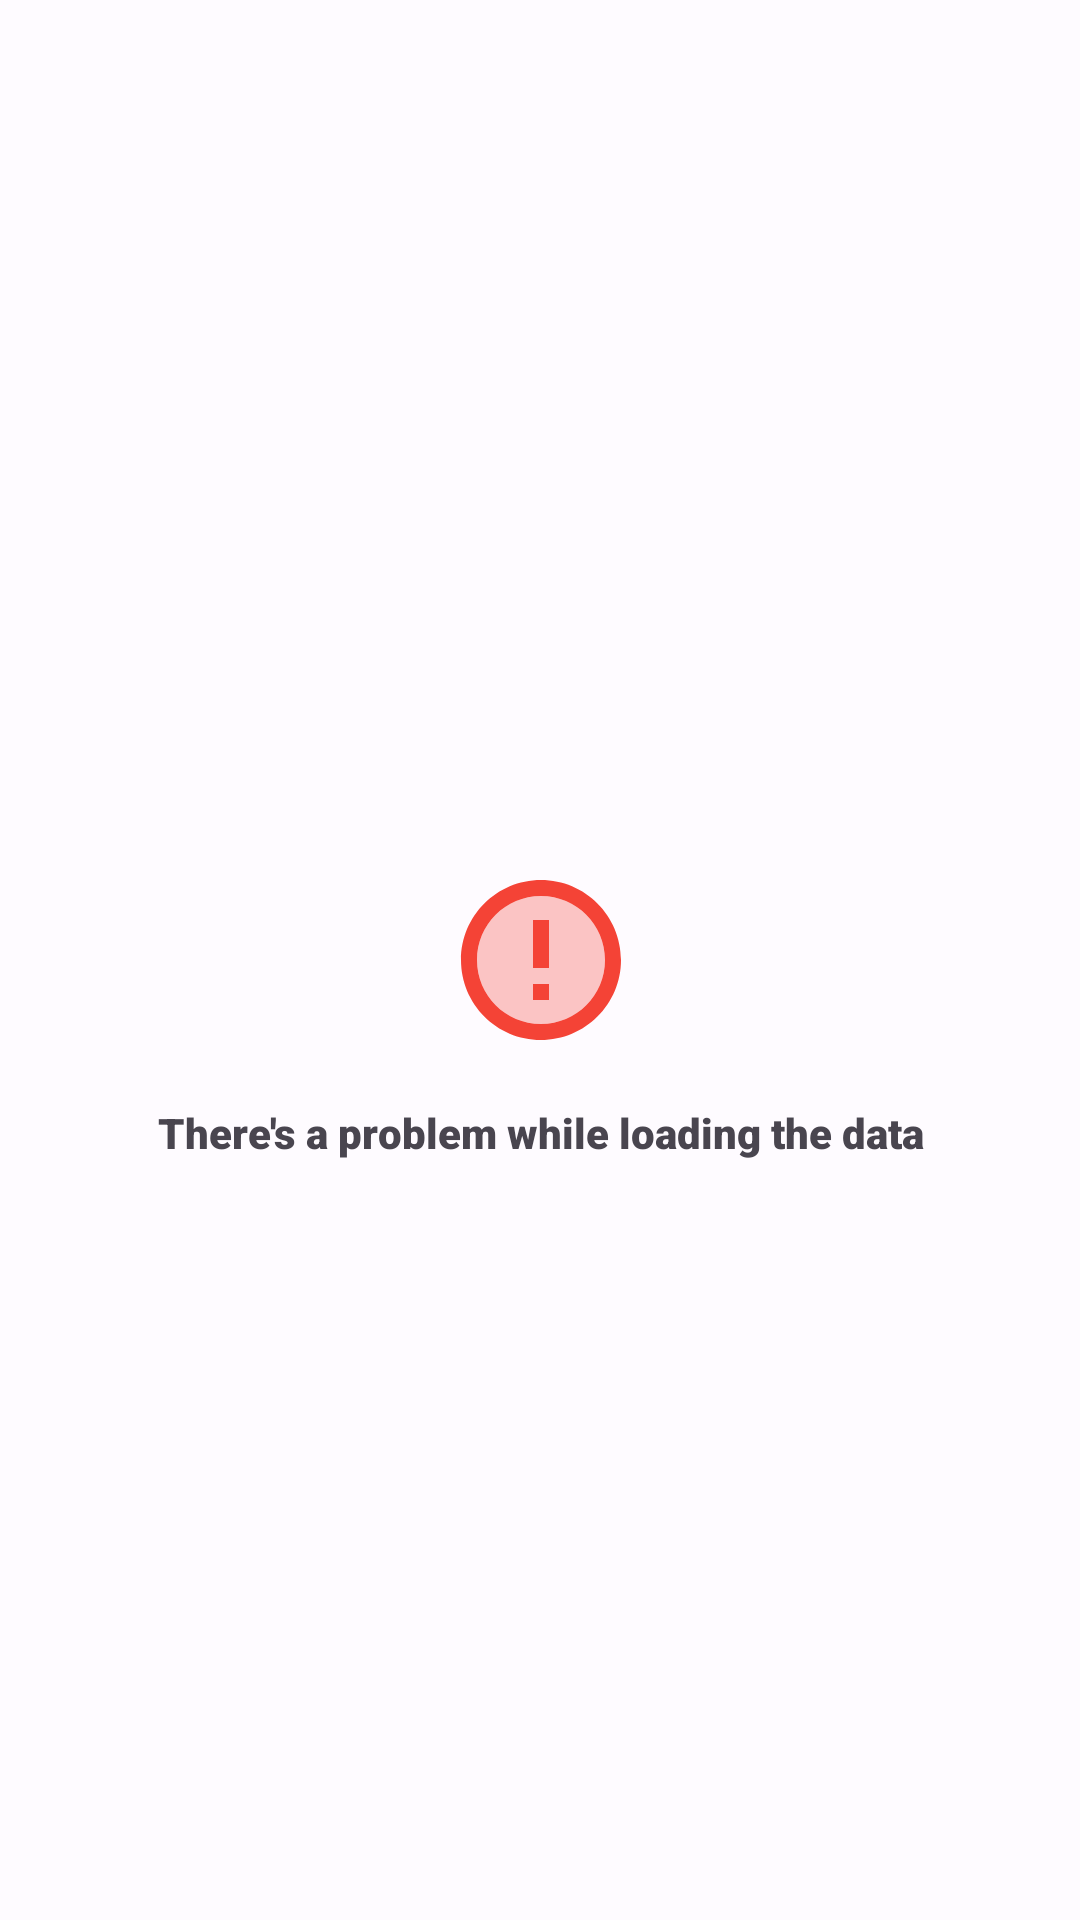

Where icons sit on this 1080 x 1920 app screen, as (x1, y1, x2, y2):
error: (461, 880, 621, 1040)
